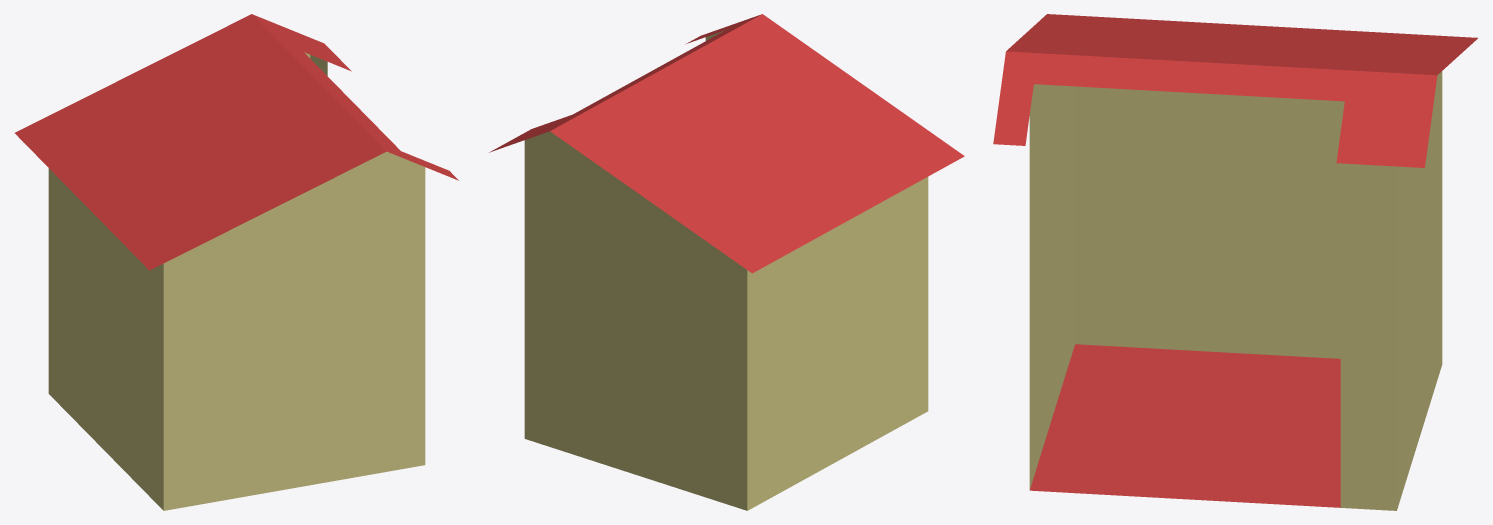
3 views of the same model, side by side, from view 1: azimuth 30°, elevation 25°; view 2: azimuth 150°, elevation 25°; view 3: azimuth 270°, elevation 25° (orthographic). The views are drawn at different scales.
Size of the model in its own units: 10.79 by 11.2 by 10.45.
